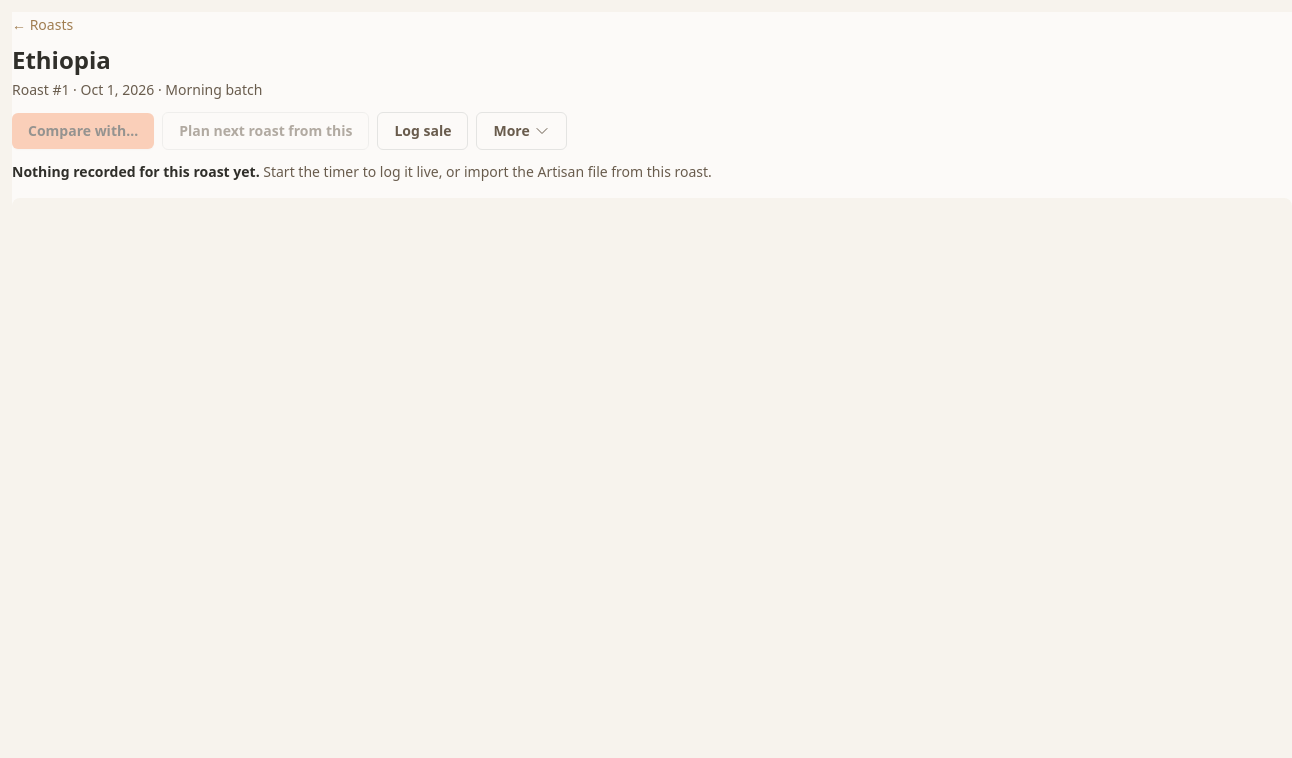
roast page live roast guard › says what to do next when Parchment has no Artisan file for the roast
Click the button "More".
click(522, 131)  # box x1=476 y1=112 x2=567 y2=150
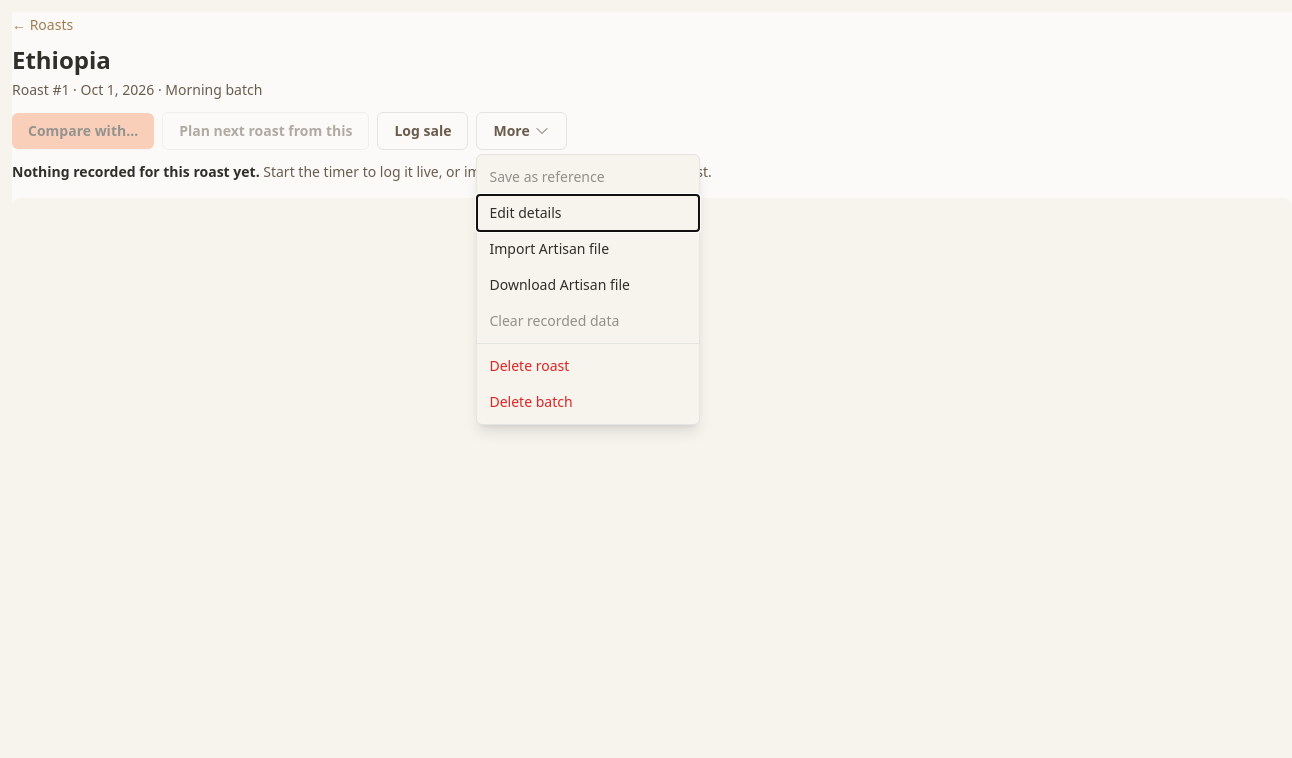
Click the menu item "Download Artisan file".
click(588, 285)  # box x1=478 y1=267 x2=700 y2=303
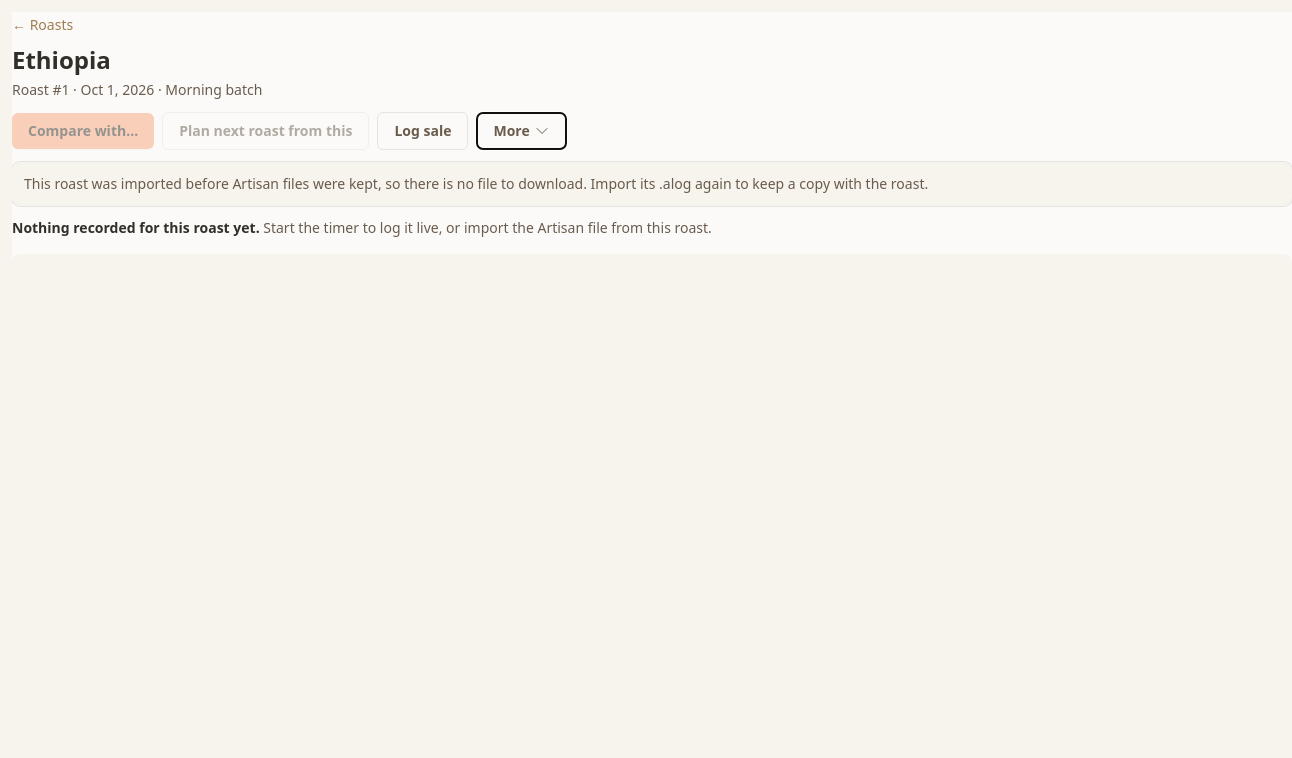
Now the text "This roast was imported before Artisan files were kept, so there is no file to download. Import its .alog again to keep " is shown, box x1=24 y1=174 x2=928 y2=193
